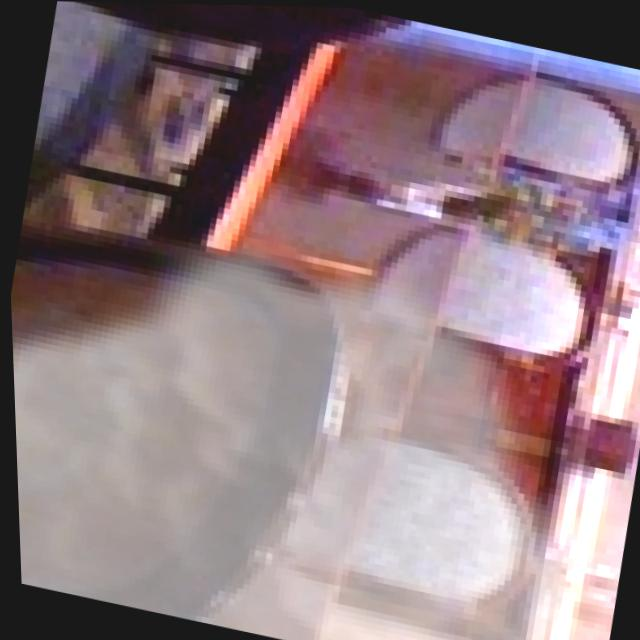smoke: (5, 171, 640, 640)
